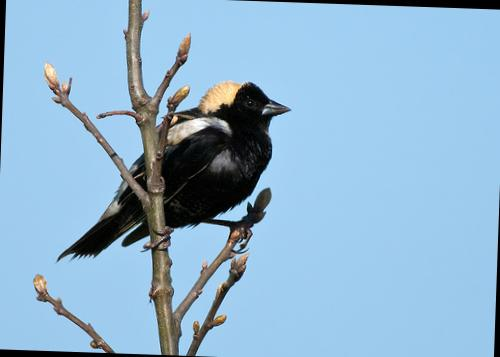bird: (45, 64, 300, 283)
